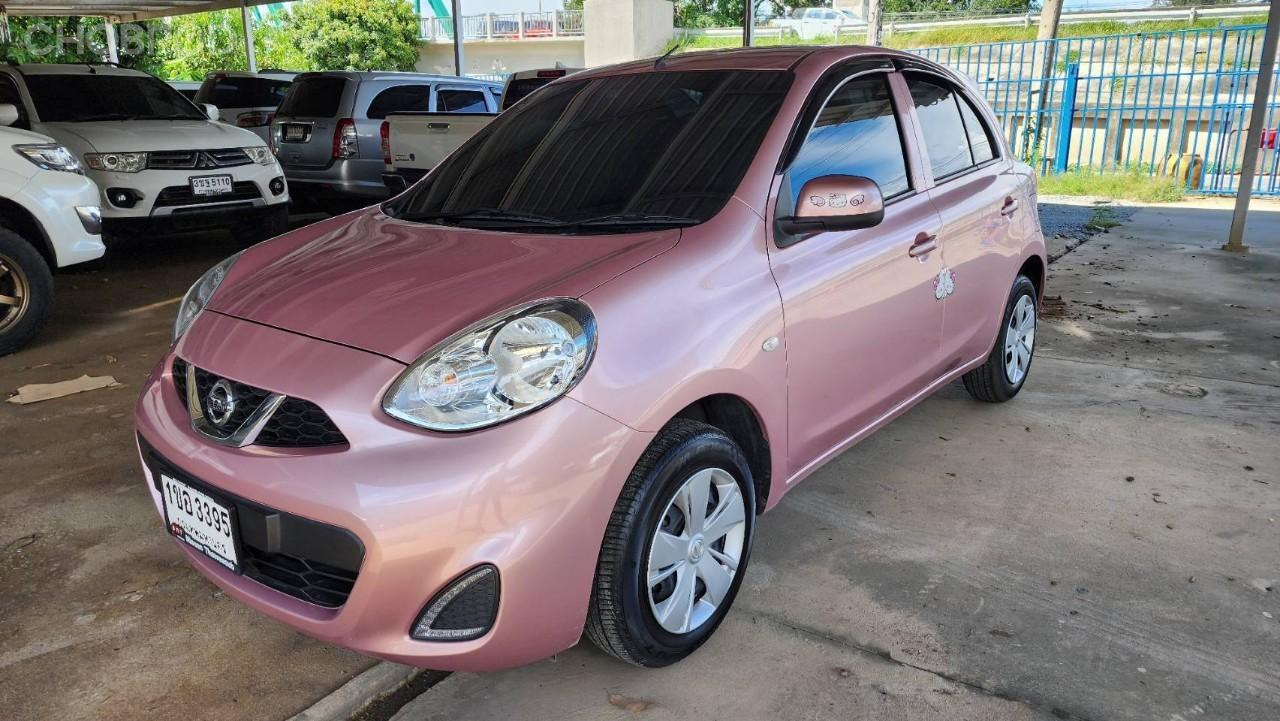license-plate: (152, 465, 248, 590)
